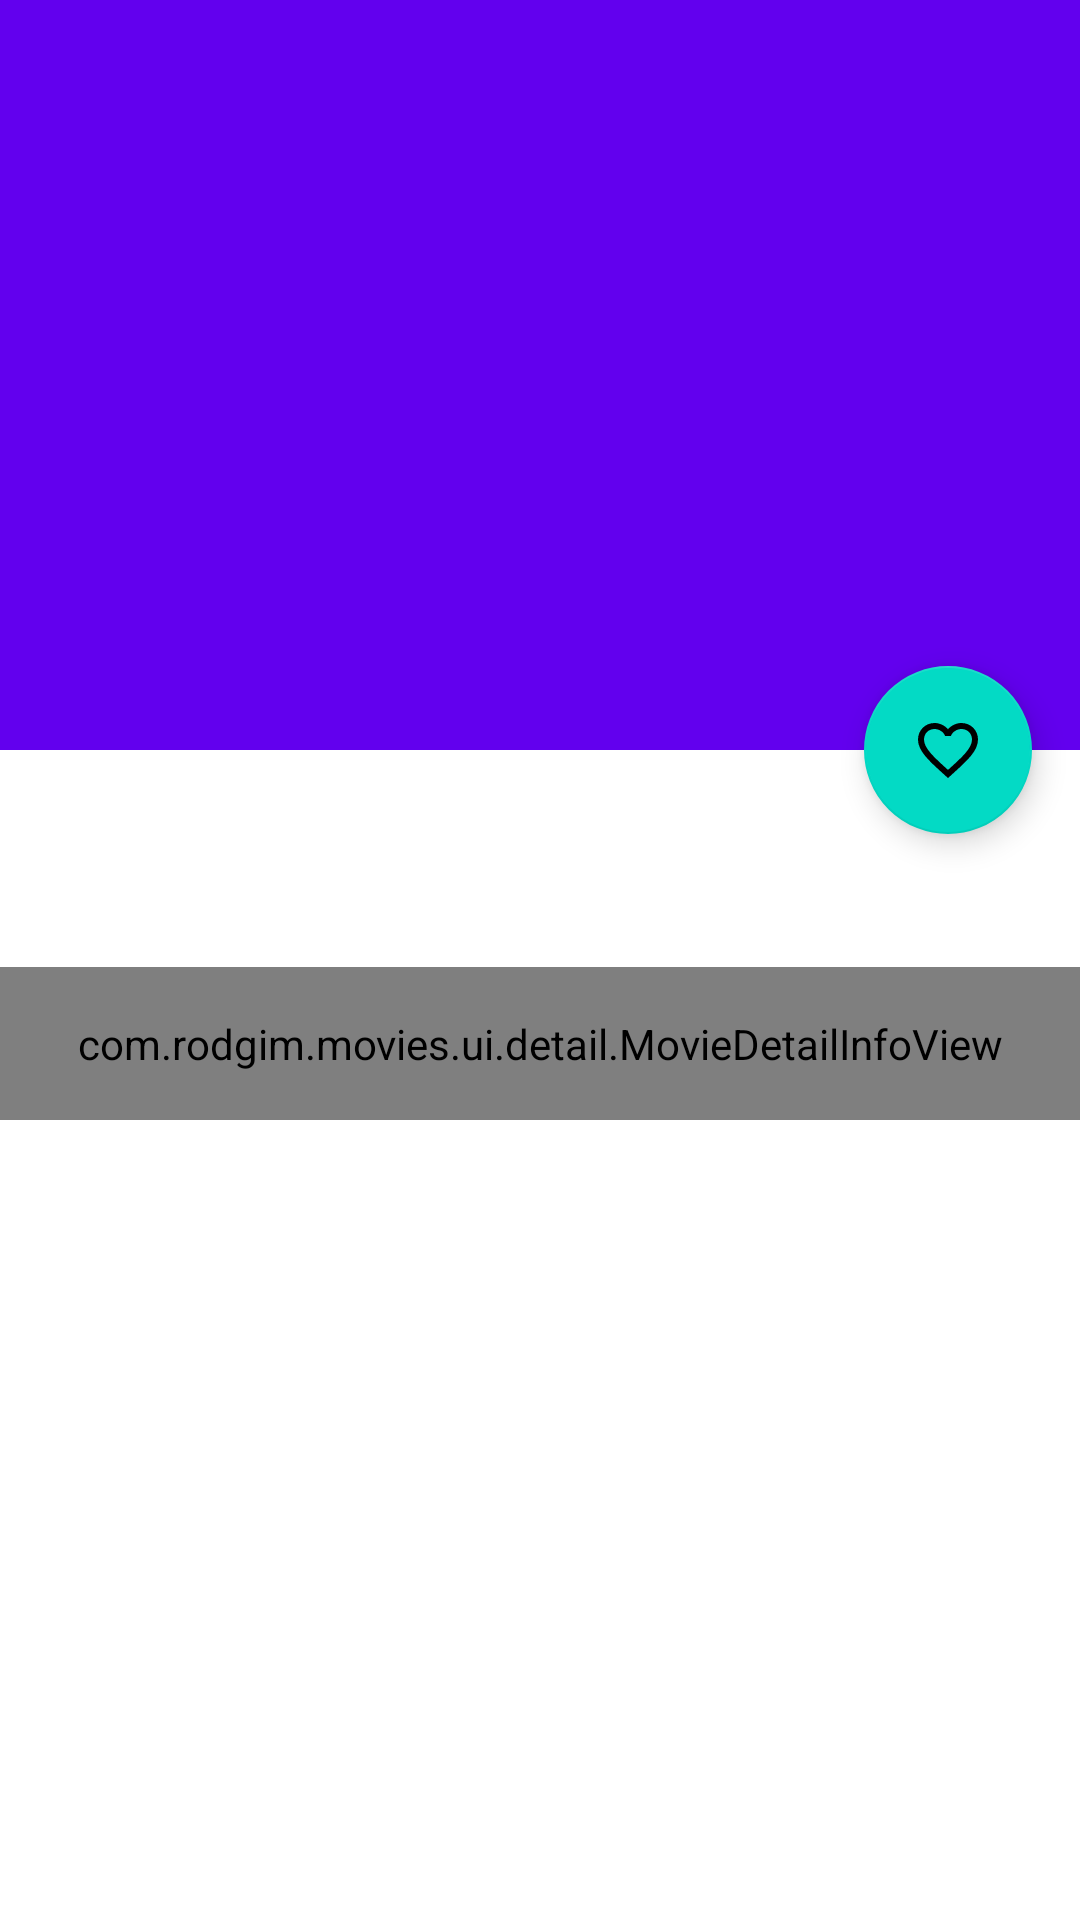

Named icons in this screenshot (1080x1920) and their centers, (x,y):
favorite off: (948,750)
